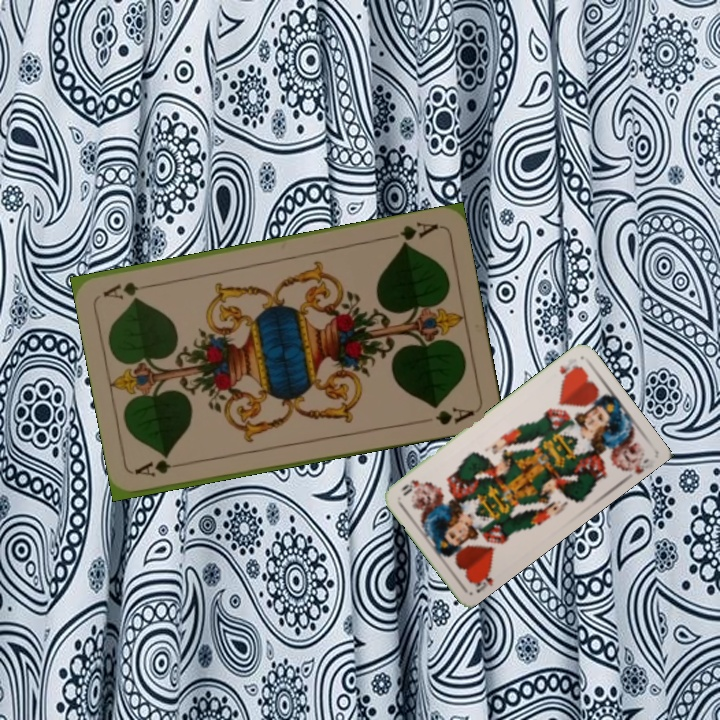GA: (132, 455, 191, 479), (396, 217, 441, 248)
HO: (466, 563, 496, 596), (555, 354, 584, 384)
